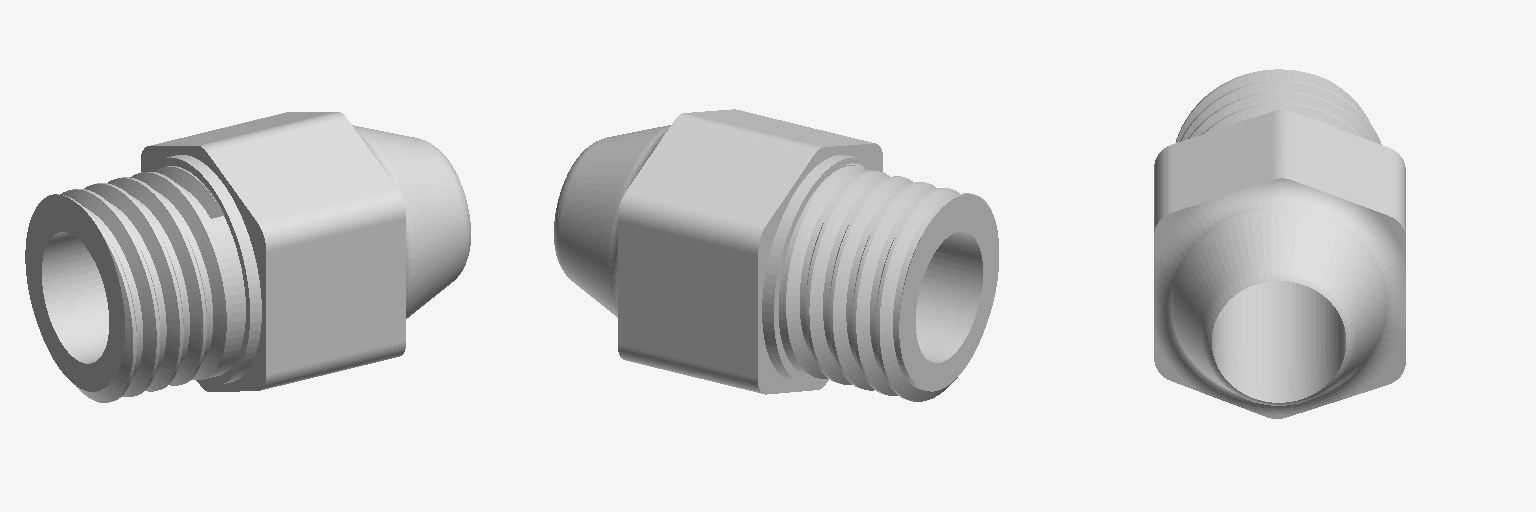
File: screw_TOP.obj
The picture shows the model from 3 angles: view 1: azimuth 30°, elevation 25°; view 2: azimuth 150°, elevation 25°; view 3: azimuth 270°, elevation 25°; orthographic projection.
Visible parts, largest first — view 1: screw_TOP; view 2: screw_TOP; view 3: screw_TOP.
Part boxes in pixels (left/top/right/bottom): screw_TOP: left=25, top=112, right=470, bottom=402; screw_TOP: left=554, top=109, right=998, bottom=401; screw_TOP: left=1154, top=69, right=1405, bottom=418.
Size of the model in its own units: 46.5 by 29.57 by 28.